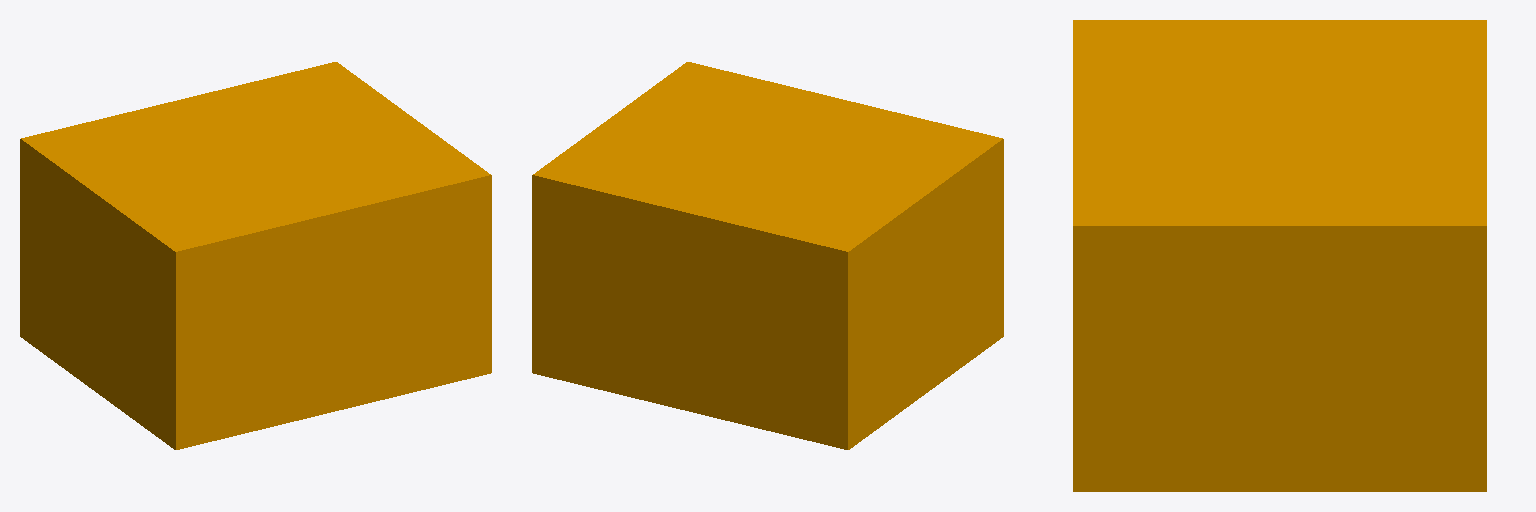
robot.urdf — 2x2:
<?xml version='1.0' encoding='UTF-8'?>
<robot name="2x2">
  <link name="base_link">
    <inertial>
      <origin xyz="0.0 0.0 0.0" rpy="0.0 0.0 0.0"/>
      <mass value="0.01"/>
      <inertia ixx="0.1" ixy="0.0" ixz="0.0" iyy="0.1" iyz="0.0" izz="0.1"/>
    </inertial>
    <visual>
      <geometry>
        <box size="0.02  0.017 0.012"/>
      </geometry>
      <material name=""/>
      <origin xyz="0.0 0.0 0.0" rpy="0.0 0.0 0.0"/>
    </visual>
    <collision>
      <geometry>
        <box size="0.02  0.017 0.012"/>
      </geometry>
      <origin xyz="0.0 0.0 0.0" rpy="0.0 0.0 0.0"/>
    </collision>
  </link>
  <material name="">
    <color rgba="0.143 0.452 0.66  1.   "/>
  </material>
  <contact>
    <lateral_friction value="1.0"/>
    <rolling_friction value="0.0"/>
    <contact_cfm value="0.0"/>
    <contact_erp value="1.0"/>
  </contact>
</robot>

--- Render facts (derived) ---
3 views of the same robot in one strip: view 1: azimuth 30°, elevation 25°; view 2: azimuth 150°, elevation 25°; view 3: azimuth 270°, elevation 25° (orthographic).
Model 2x2 with 1 links and 0 joints (none), rooted at base_link, posed every joint at zero.
Visible links, largest first — view 1: base_link; view 2: base_link; view 3: base_link.
Boxes of the visible links, x1,y1,x2,y2 form: base_link: [20, 62, 491, 449]; base_link: [532, 62, 1003, 449]; base_link: [1073, 20, 1486, 491].
Size in the robot's own frame: 0.02 by 0.017 by 0.012 metres.
Geometry: primitives only (box / cylinder / sphere), no mesh files.